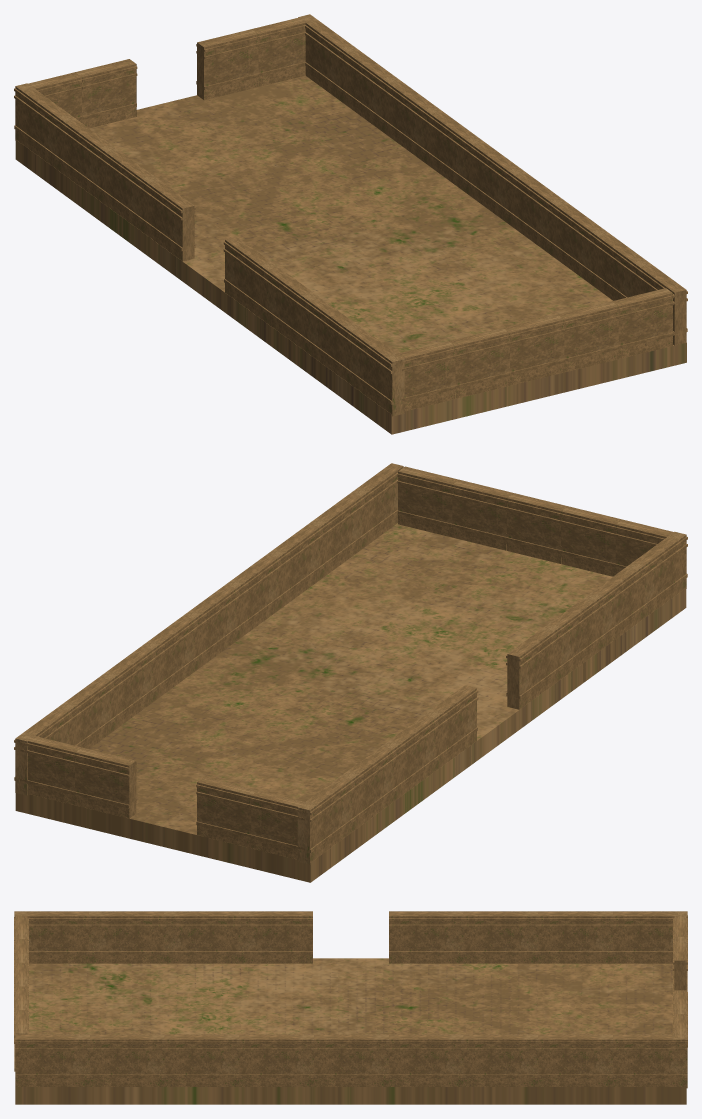
File: MDL_E_LVL_Temple_03.fbx
The picture shows the model from 3 angles, top to bottom: view 1: azimuth 30°, elevation 25°; view 2: azimuth 150°, elevation 25°; view 3: azimuth 270°, elevation 25°; orthographic projection. The views are drawn at different scales.
Visible parts, largest first — view 1: Plane.023, Cube.051, Cube.050, Cube.046, Cube.047; view 2: Plane.023, Cube.051, Cube.050, Cube.046, Cube.047; view 3: Plane.023, Cube.050, Cube.051, Cube.047, Cube.046.
Boxes of the visible parts, box(x1,y1,x2,y2) form: Plane.023: box(15, 75, 686, 434); Cube.051: box(14, 83, 405, 416); Cube.050: box(298, 14, 687, 345); Cube.046: box(394, 288, 673, 411); Cube.047: box(21, 16, 312, 128); Plane.023: box(15, 523, 686, 882); Cube.051: box(297, 531, 687, 864); Cube.050: box(14, 463, 403, 795); Cube.046: box(397, 466, 675, 576); Cube.047: box(20, 734, 311, 859); Plane.023: box(15, 958, 686, 1104); Cube.050: box(15, 1034, 687, 1088); Cube.051: box(14, 911, 687, 963); Cube.047: box(673, 913, 687, 1047); Cube.046: box(14, 915, 28, 1071).
Bounding box in the file's own units: 1559 × 365 × 3427.
